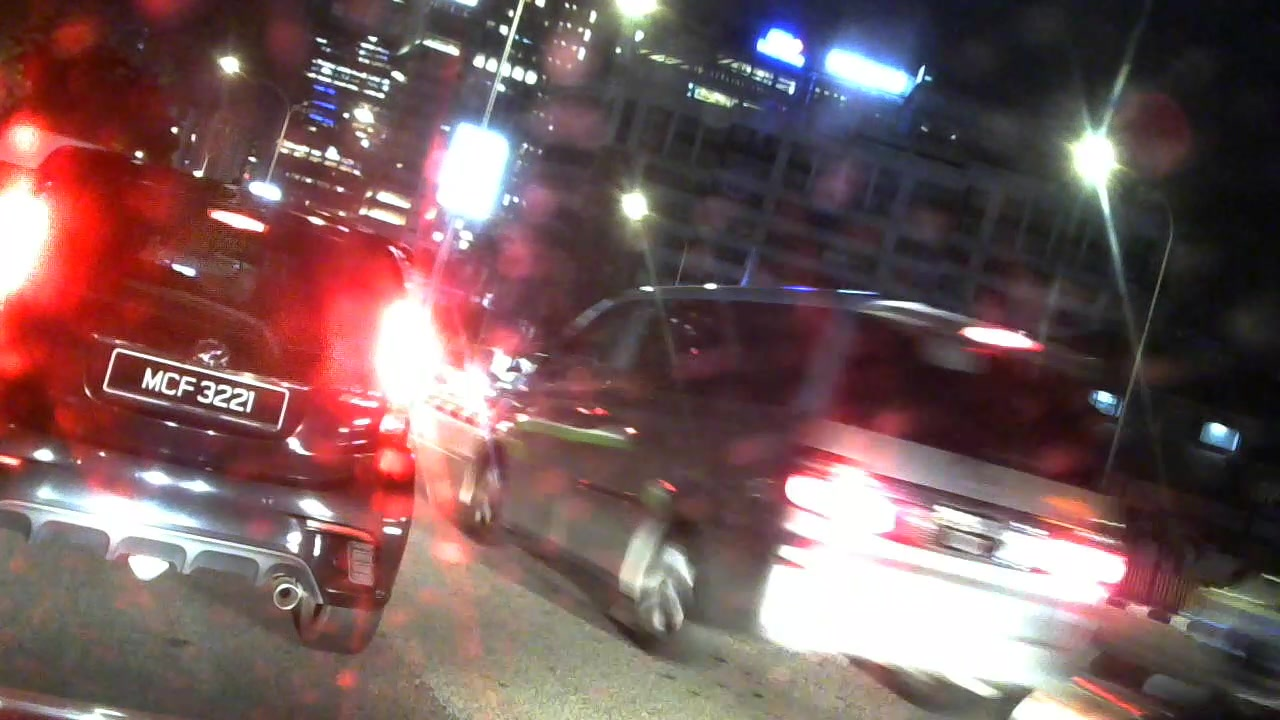Car: (460, 252, 1120, 712), (1, 130, 441, 652)
